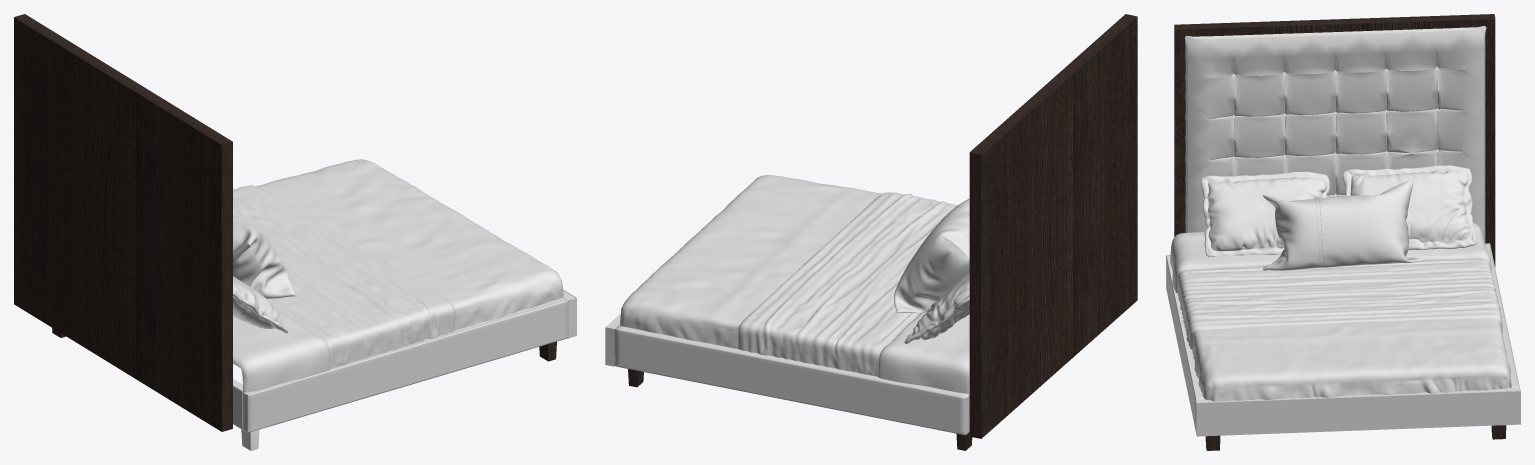
3 renders of one model, left to right at view 1: azimuth 30°, elevation 25°; view 2: azimuth 150°, elevation 25°; view 3: azimuth 270°, elevation 25°, orthographic. The views are drawn at different scales.
Visible parts, largest first — view 1: Cube_5, butterfly_matrac, Box005, Box019, butterfly_pillor_squere; view 2: Cube_5, butterfly_matrac, Box006, Box019, butterfly_pillor_squere; view 3: butterfly_matrac, Plane001_001_1, butterfly_pillor_squere, Box007, Box019, Cube_5, Box005, Box006.
Boxes of the visible parts, left/top/right/bottom form: Cube_5: left=14, top=14, right=232, bottom=431; butterfly_matrac: left=233, top=159, right=563, bottom=392; Box005: left=242, top=297, right=568, bottom=432; Box019: left=233, top=215, right=295, bottom=298; butterfly_pillor_squere: left=233, top=276, right=288, bottom=333; Cube_5: left=969, top=14, right=1137, bottom=438; butterfly_matrac: left=620, top=175, right=969, bottom=393; Box006: left=614, top=325, right=969, bottom=435; Box019: left=894, top=198, right=969, bottom=313; butterfly_pillor_squere: left=904, top=272, right=969, bottom=343; butterfly_matrac: left=1170, top=223, right=1510, bottom=401; Plane001_001_1: left=1185, top=26, right=1486, bottom=243; butterfly_pillor_squere: left=1200, top=165, right=1476, bottom=256; Box007: left=1196, top=387, right=1520, bottom=436; Box019: left=1262, top=180, right=1424, bottom=270; Cube_5: left=1174, top=14, right=1495, bottom=267; Box005: left=1166, top=255, right=1204, bottom=431; Box006: left=1484, top=243, right=1519, bottom=387.
Size of the model in its own units: 2436 by 1861 by 2173.
4 materials, 1 textured.
